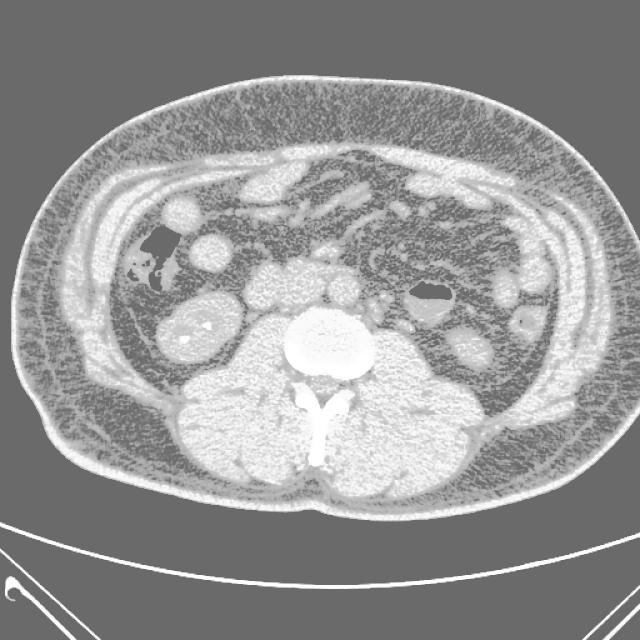STONE: (141, 197, 488, 354)
